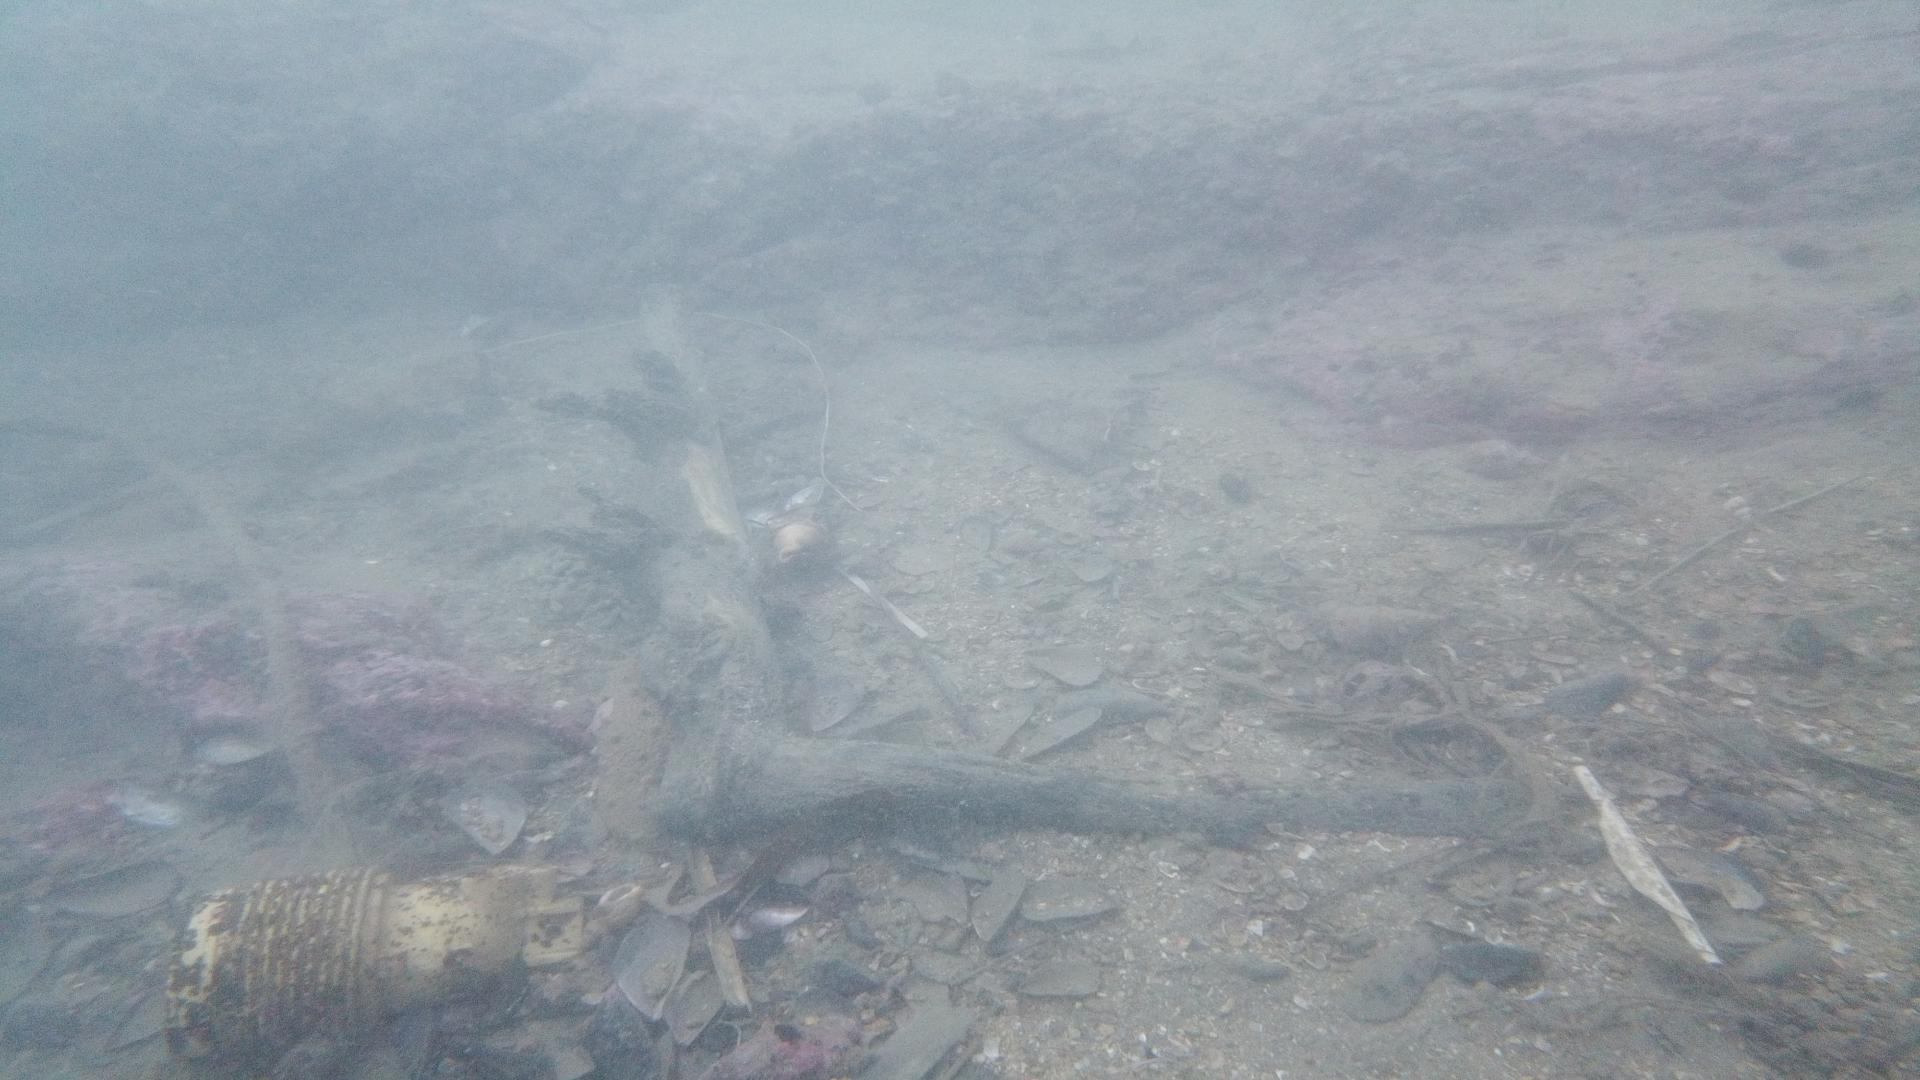rope: (0, 410, 316, 815)
wood: (636, 289, 1535, 843)
